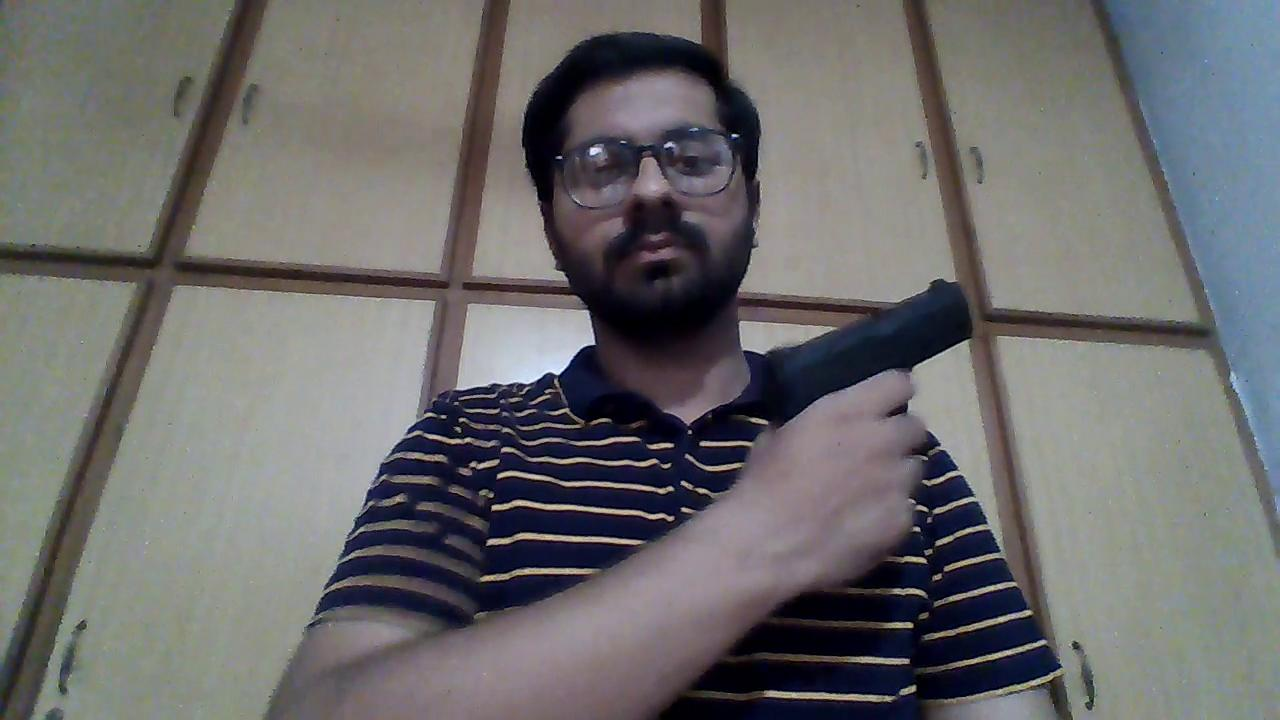criminal: (266, 29, 1070, 720)
weapon: (759, 275, 978, 431)
